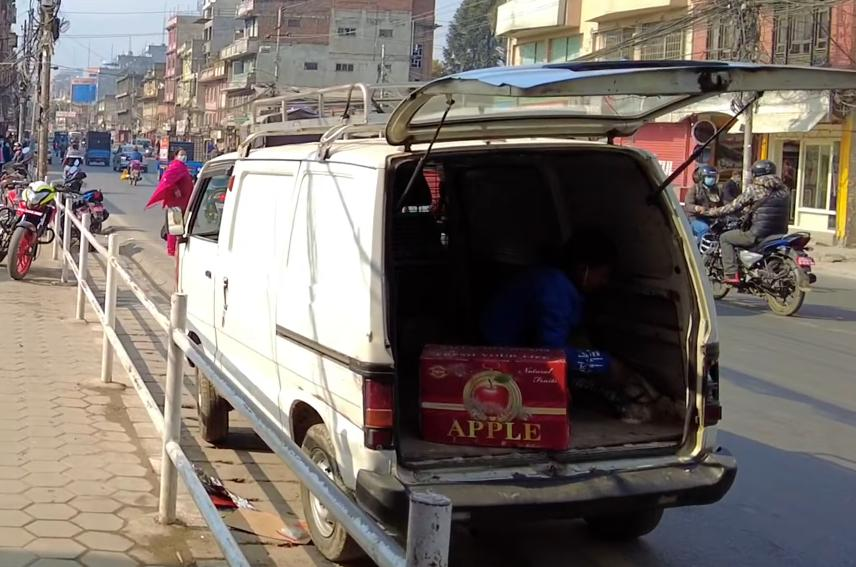bike: (693, 206, 817, 320), (4, 171, 65, 281)
van: (161, 91, 741, 552)
